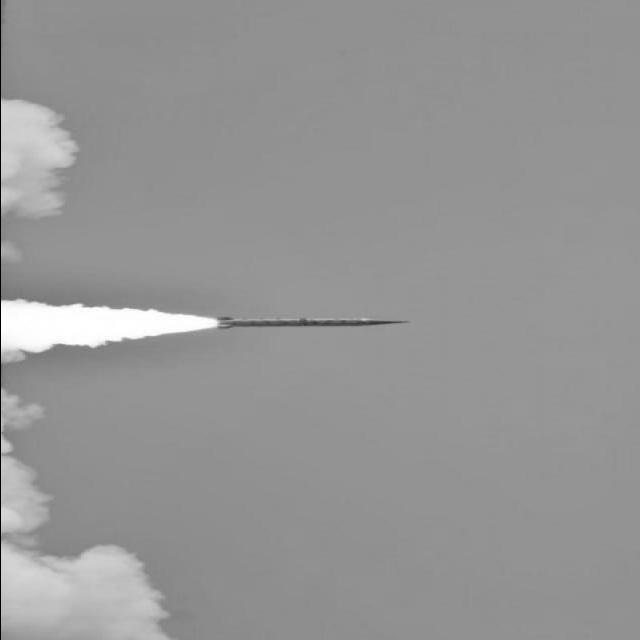missile: (210, 315, 412, 332)
